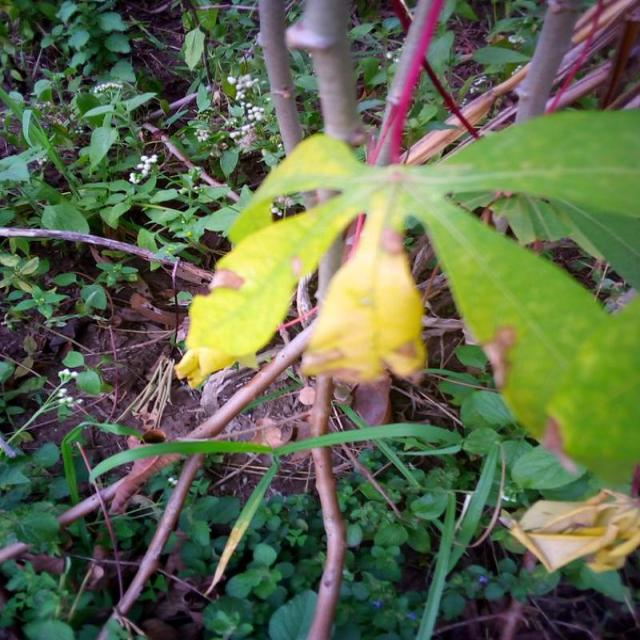cassava leaf: (176, 108, 638, 494)
